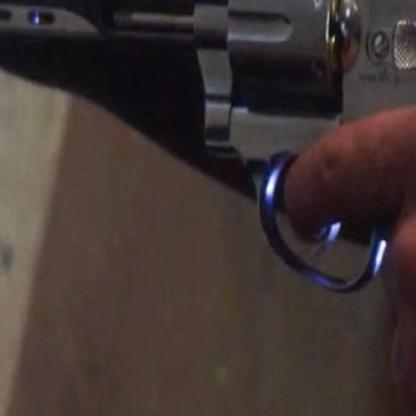gun: (0, 0, 415, 344)
